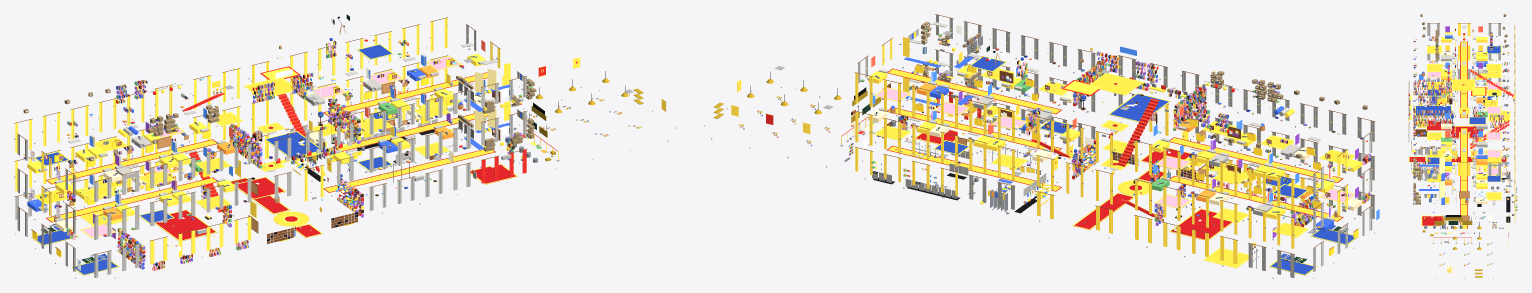
The model's file is SM_Ra_Interior_NoCol.fbx.
3 renders of one model, left to right at view 1: azimuth 30°, elevation 25°; view 2: azimuth 150°, elevation 25°; view 3: azimuth 270°, elevation 25°, orthographic. The views are drawn at different scales.
Visible parts, largest first — view 1: SM_Ra_Interior_NoCol; view 2: SM_Ra_Interior_NoCol; view 3: SM_Ra_Interior_NoCol.
Part boxes in pixels (x1,y1,x2,y2): SM_Ra_Interior_NoCol: [14, 14, 675, 278]; SM_Ra_Interior_NoCol: [704, 14, 1379, 278]; SM_Ra_Interior_NoCol: [1408, 14, 1517, 278].
Size of the model in its own units: 58.45 by 14.68 by 14.28.
